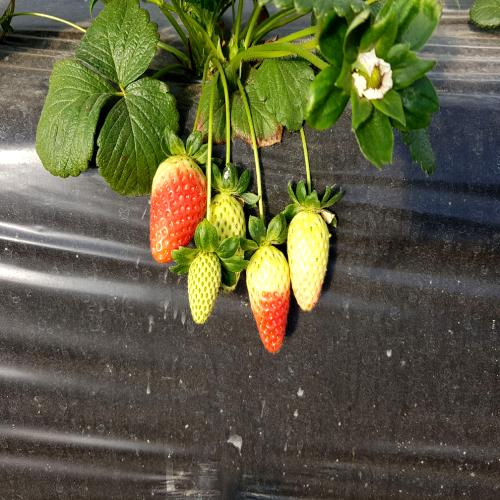partially-ripe: (248, 240, 295, 351)
ripe: (154, 148, 204, 256)
unripe: (281, 203, 329, 320), (202, 183, 249, 289), (184, 245, 228, 329)
